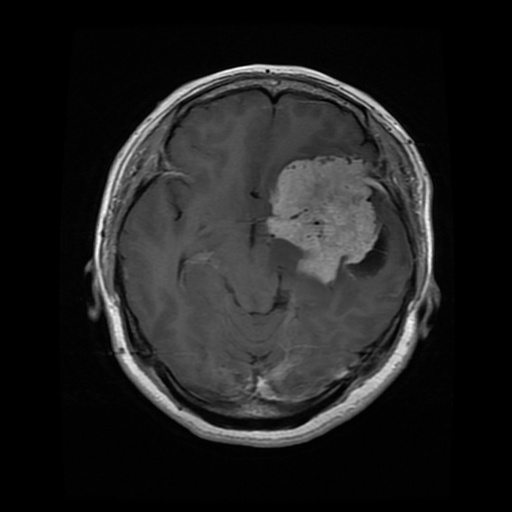meningioma: (268, 156, 382, 282)
